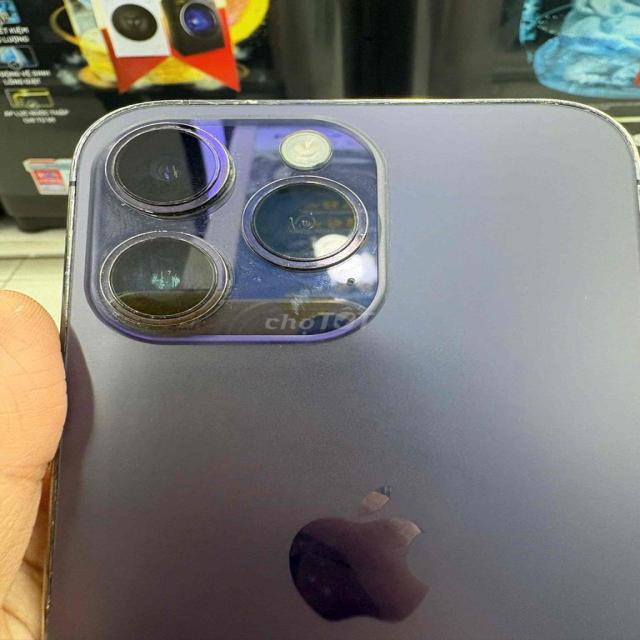gen_14: (51, 86, 637, 640)
scratch: (102, 92, 640, 140), (61, 253, 223, 341), (233, 265, 412, 326), (96, 199, 278, 256)
